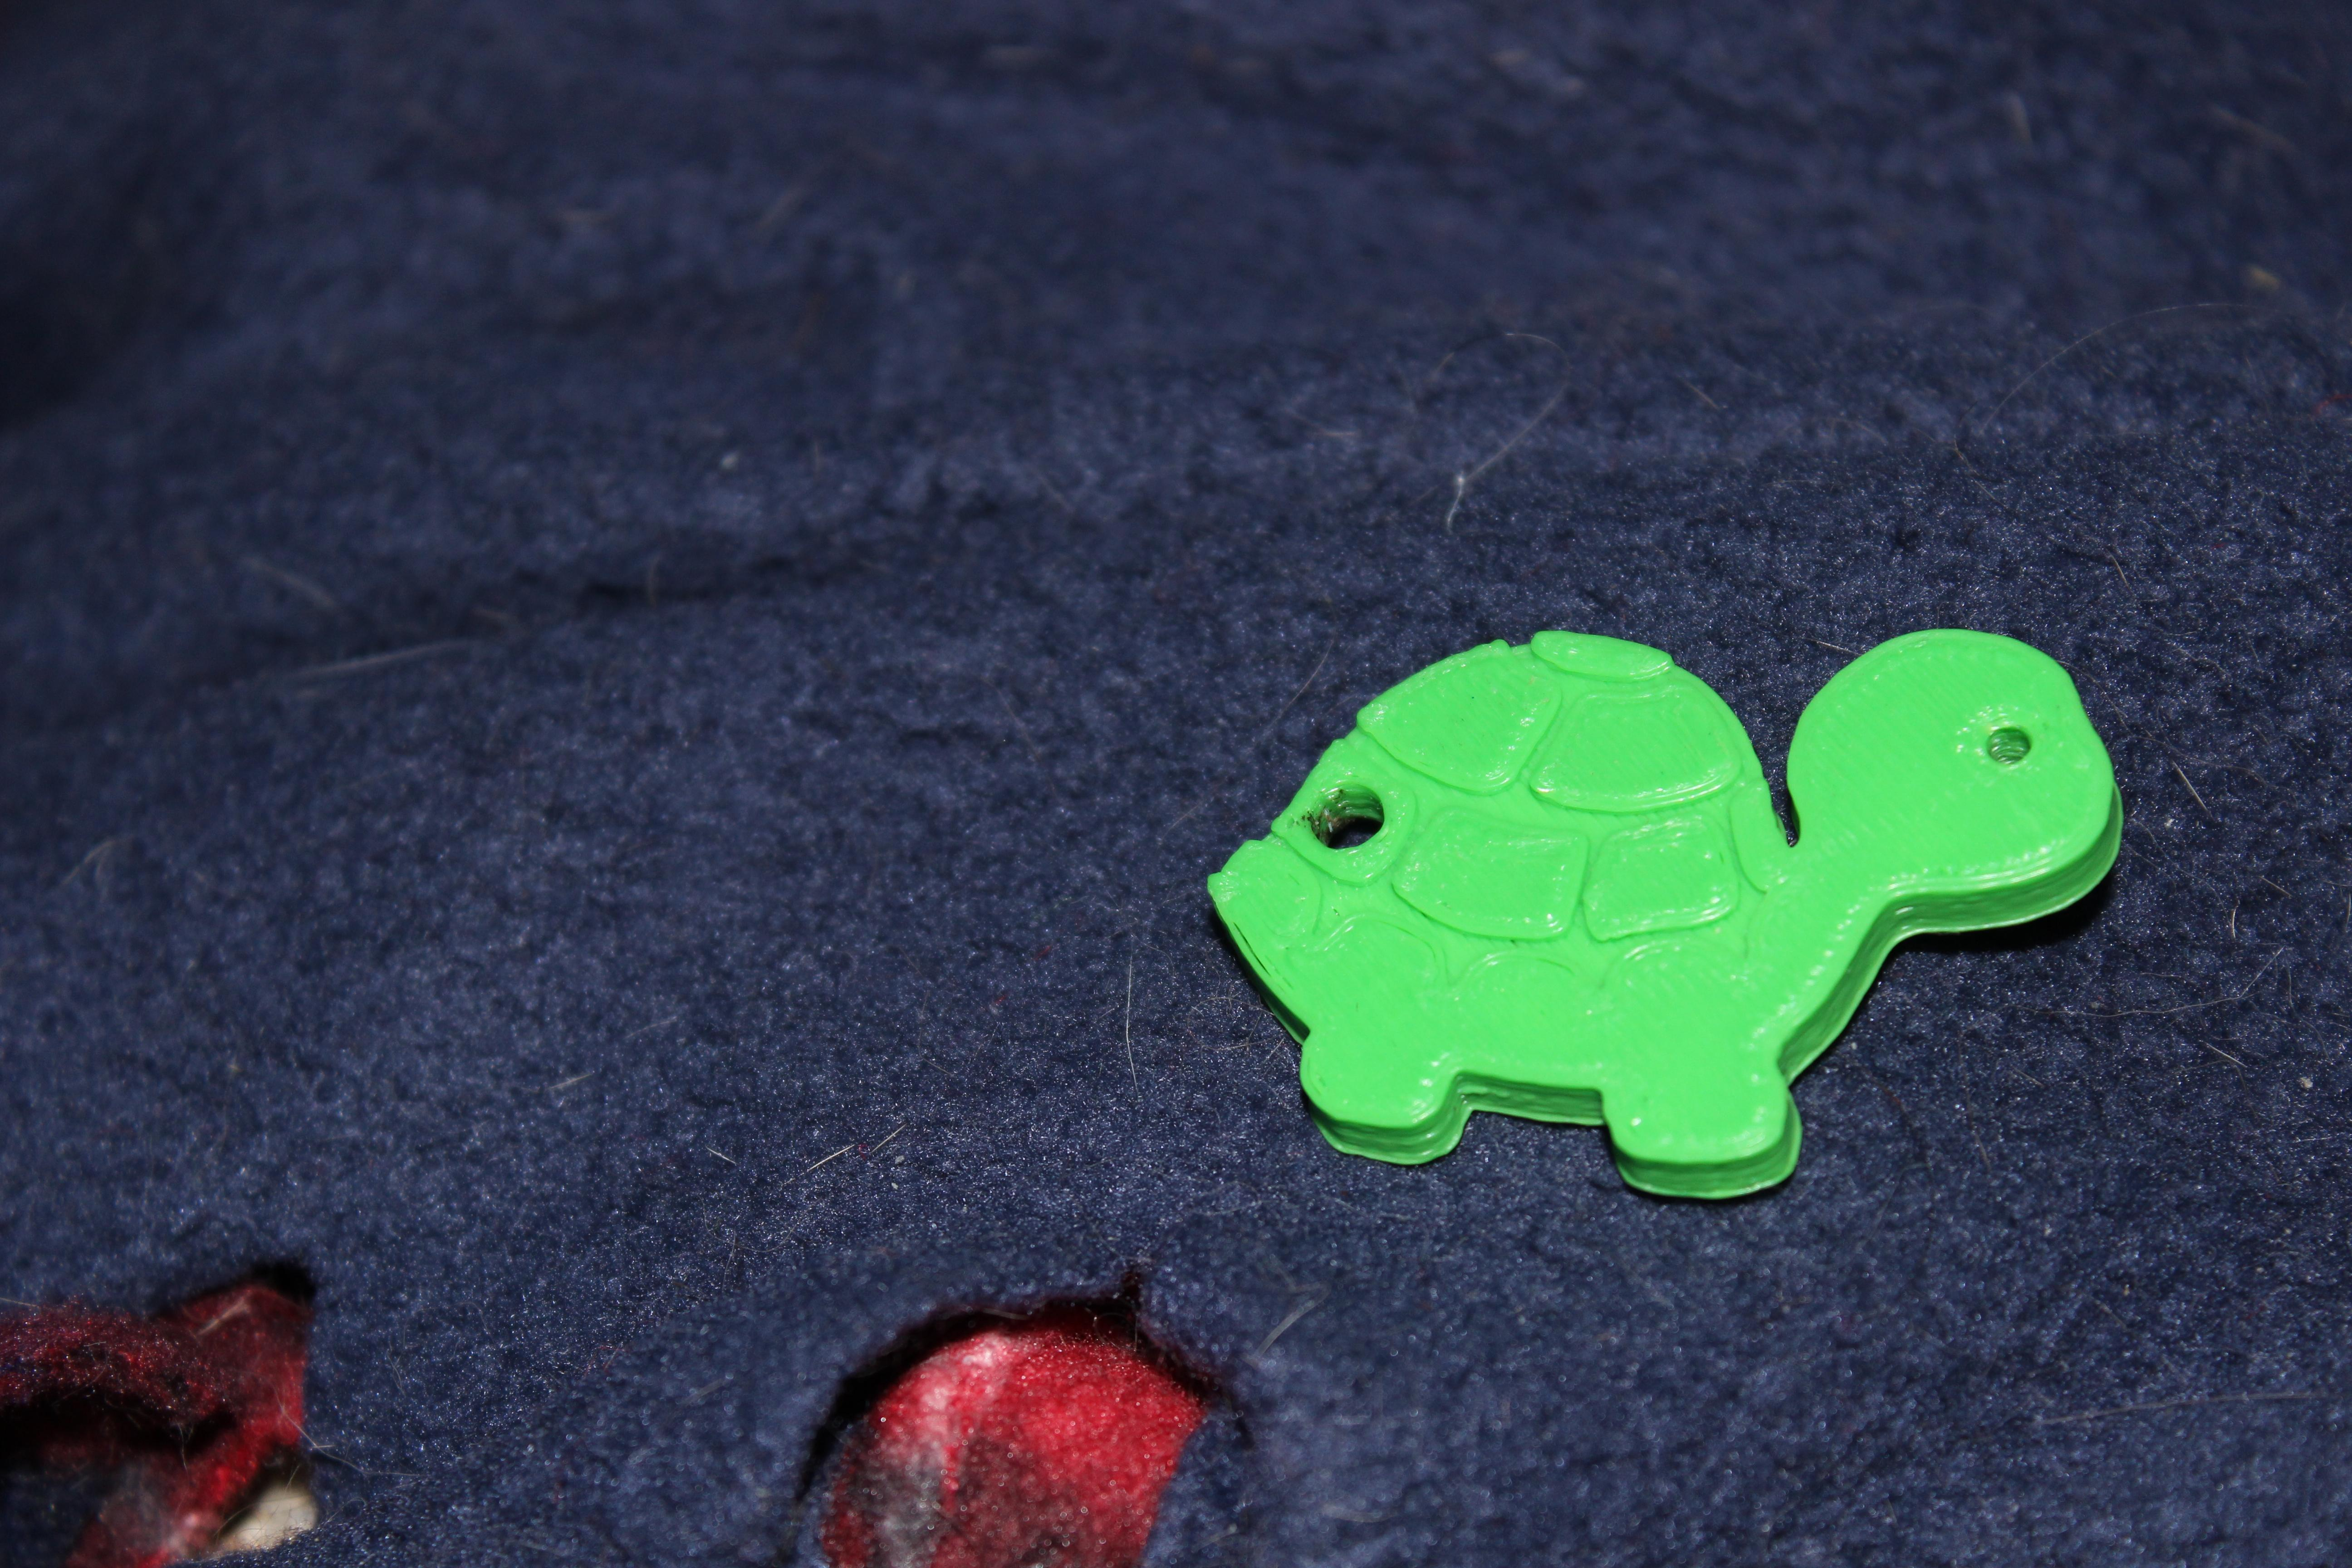turtle: (1171, 583, 2170, 1234)
